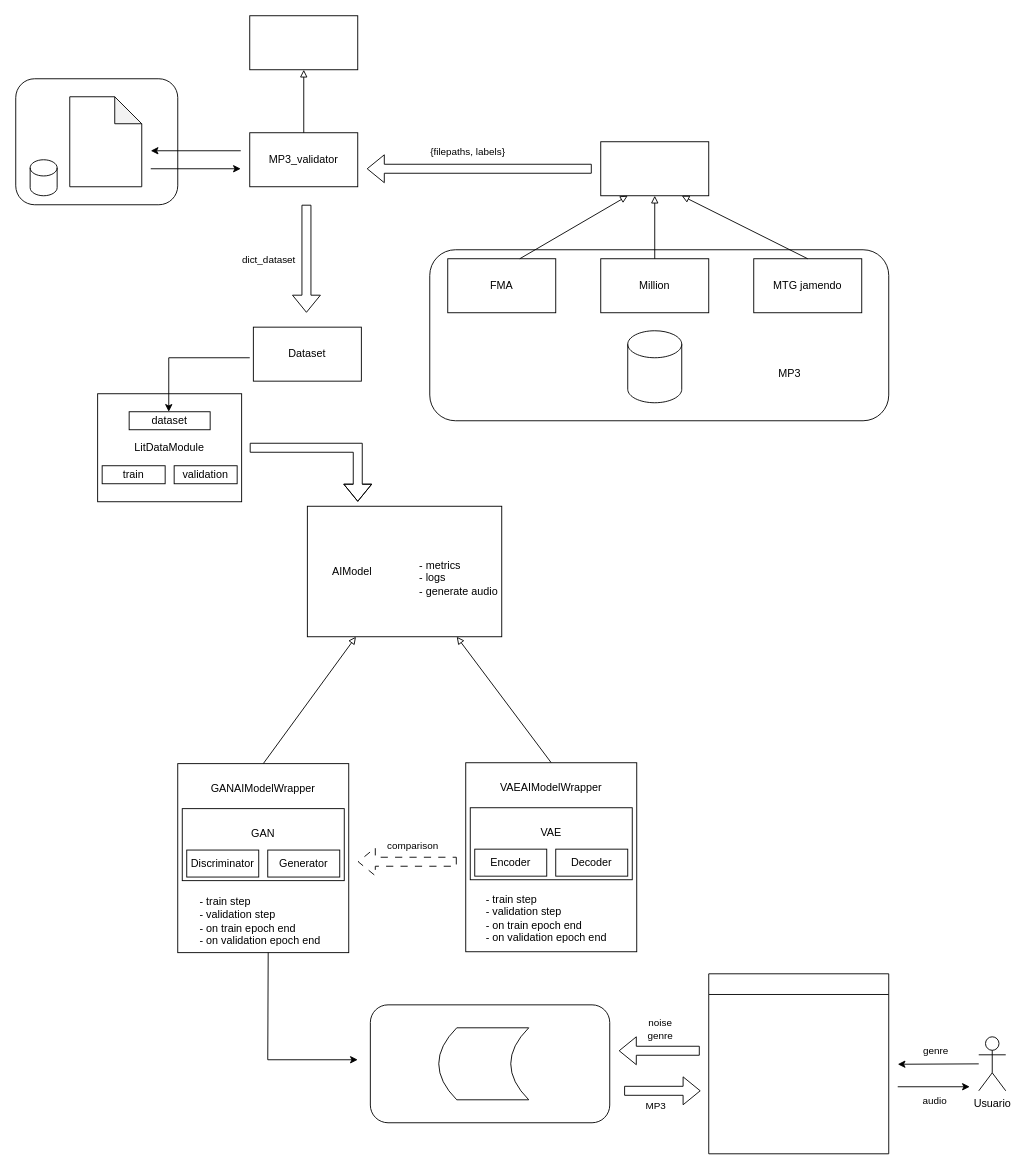
This 1026x1170 diagram has some shape labels left out. Each missing label, with the centre of its shape:
"compiled model" goes at point 483,1063.
"Datasource" goes at point 654,168.
"Euterpe" goes at point 798,1063.
"valid_files.csv" goes at point 105,141.
"Validator Dataset" goes at point 303,42.
